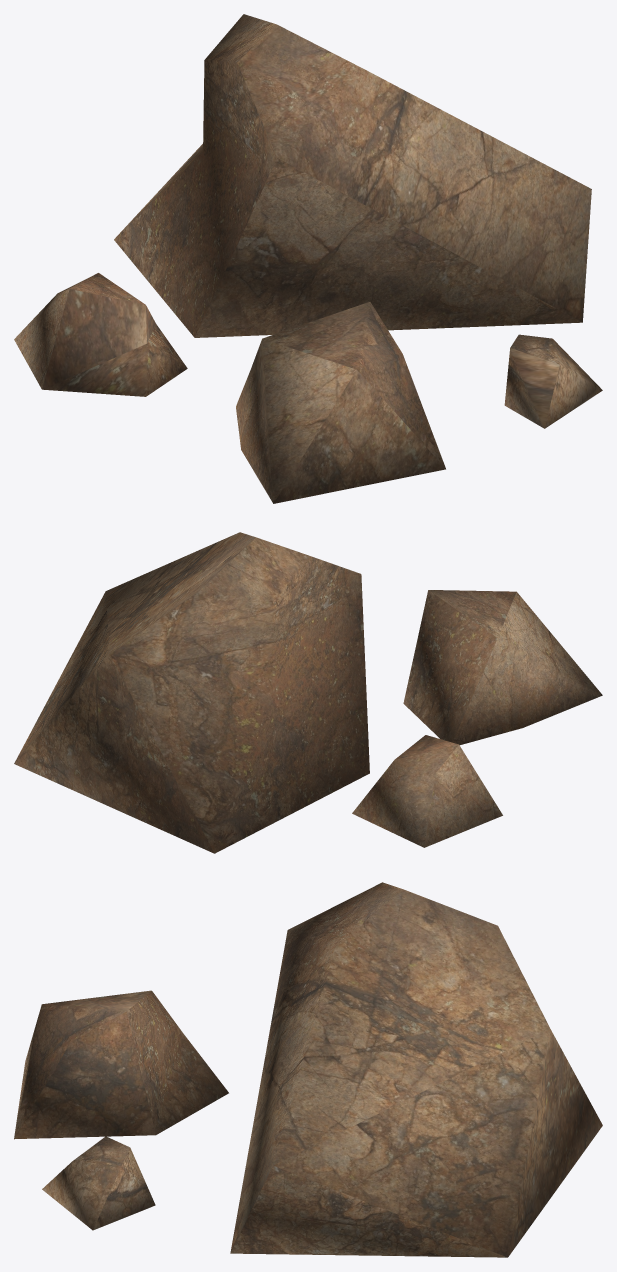
Rendered from pebbles3.fbx.
3 renders of one model, top to bottom at view 1: azimuth 30°, elevation 25°; view 2: azimuth 150°, elevation 25°; view 3: azimuth 270°, elevation 25°, orthographic. The views are drawn at different scales.
Visible parts, largest first — view 1: Pebbles3; view 2: Pebbles3; view 3: Pebbles3.
Part boxes in pixels (x1,y1,x2,y2): Pebbles3: [14, 14, 602, 503]; Pebbles3: [14, 532, 602, 853]; Pebbles3: [14, 882, 602, 1257].
Bounding box in the file's own units: 43.73 × 23.42 × 46.73.
1 material, 1 textured.
